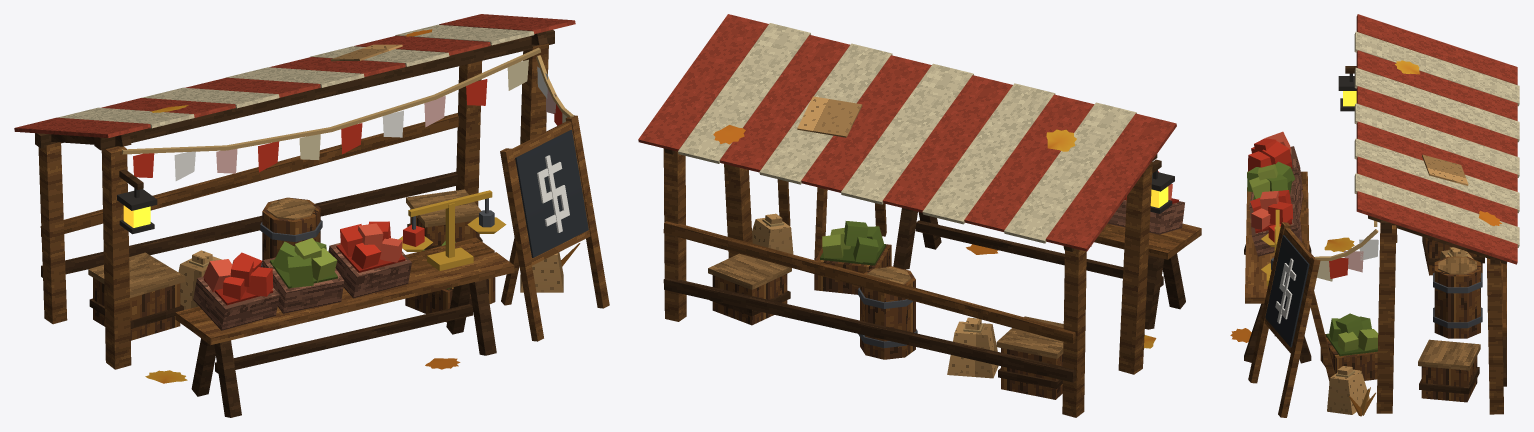
File: exchange.glb
3 renders of one model, left to right at view 1: azimuth 30°, elevation 25°; view 2: azimuth 150°, elevation 25°; view 3: azimuth 270°, elevation 25°, orthographic. The views are drawn at different scales.
Visible parts, largest first — view 1: exchange, sway_scale; view 2: exchange; view 3: exchange, sway_scale.
Boxes of the visible parts, bbox=[...] form: exchange: bbox=[14, 14, 609, 417]; sway_scale: bbox=[399, 190, 506, 251]; exchange: bbox=[638, 14, 1201, 417]; exchange: bbox=[1230, 14, 1519, 417]; sway_scale: bbox=[1261, 209, 1281, 275].
Bounding box in the file's own units: 5.51 × 2.86 × 3.46.
Materials: 28 (9 with a texture image).
